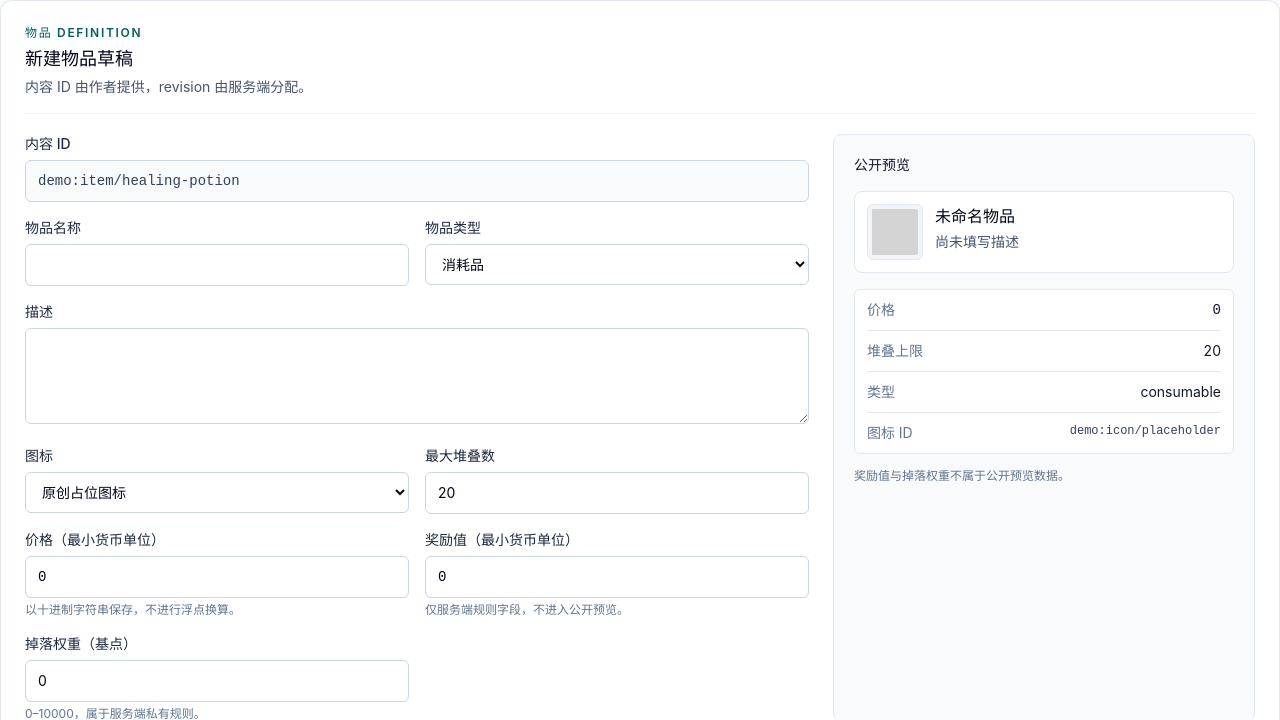
Test: ItemWorkspace › keeps the empty editor usable and reports local field validation without network writes
This screenshot has width=1280, height=720.
Select "装备" in the dropdown labelled "物品类型": (617, 264) [425, 244, 809, 285]
(page scrolled)
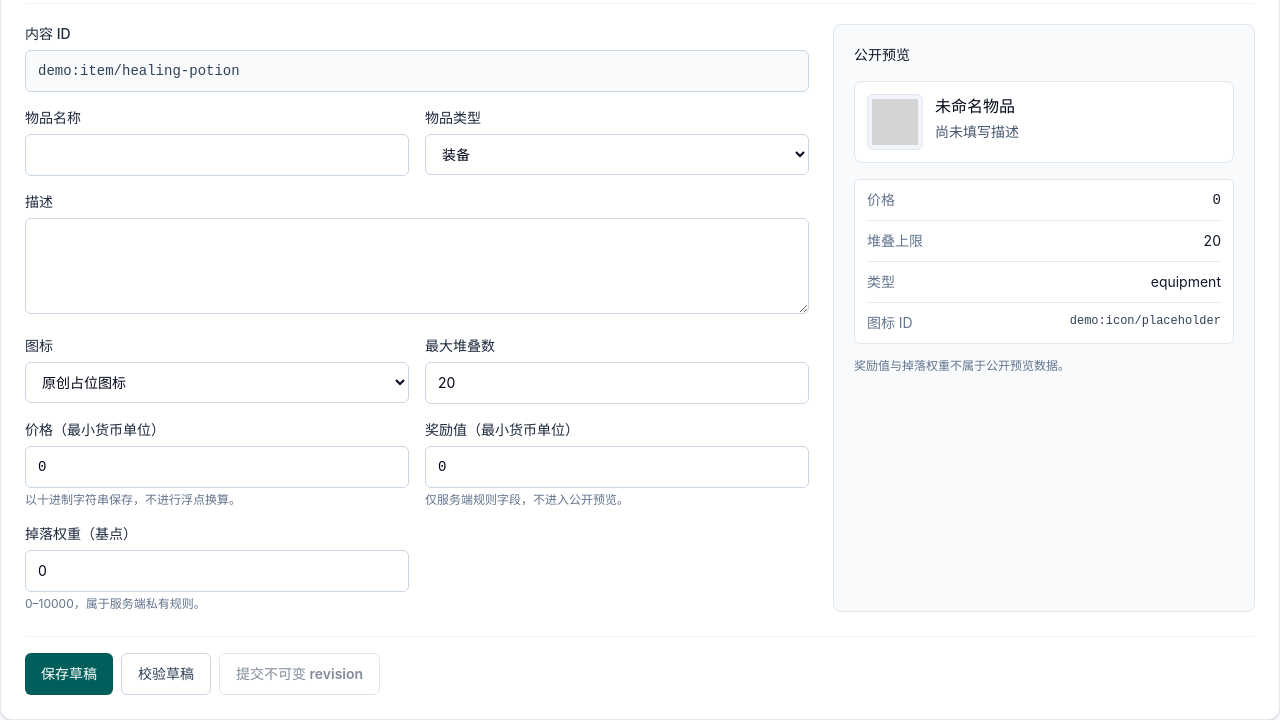
Click the button "保存草稿": (69, 674) [25, 653, 113, 695]
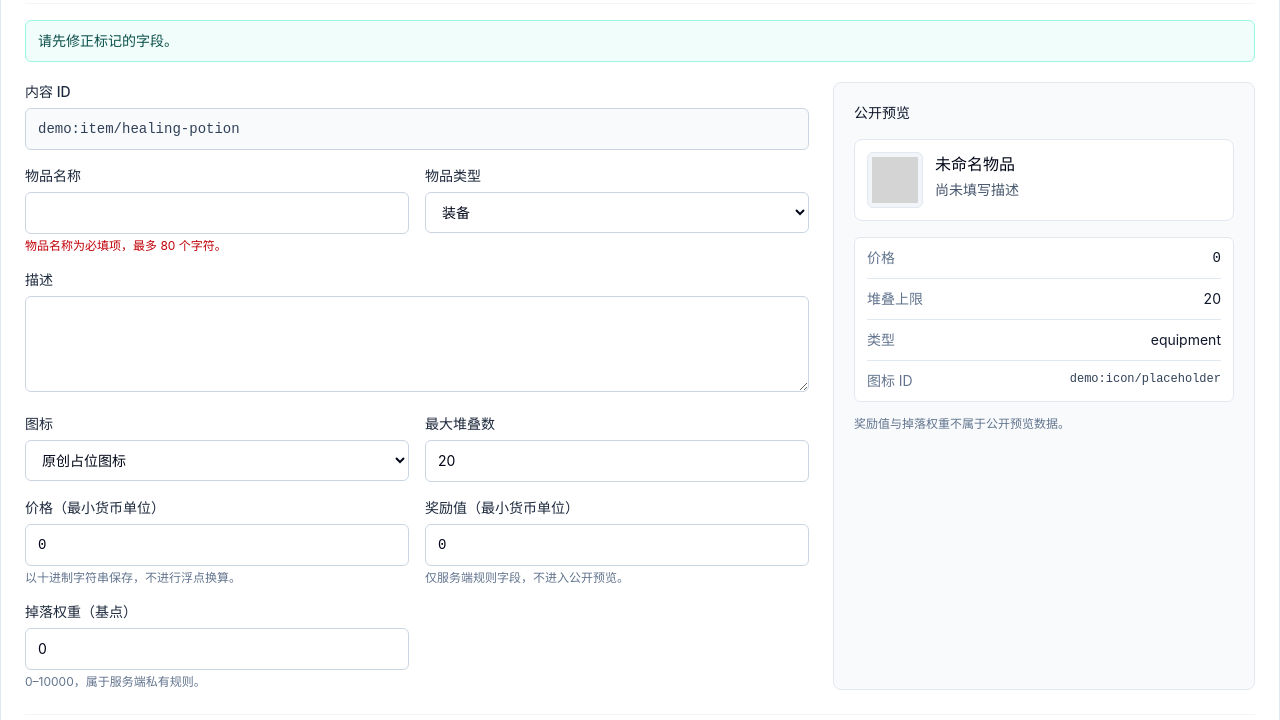
Now the text "请先修正标记的字段。" is shown, box [25, 20, 1255, 62]
Now the text "物品名称为必填项，最多 80 个字符。" is shown, box [25, 238, 227, 253]
